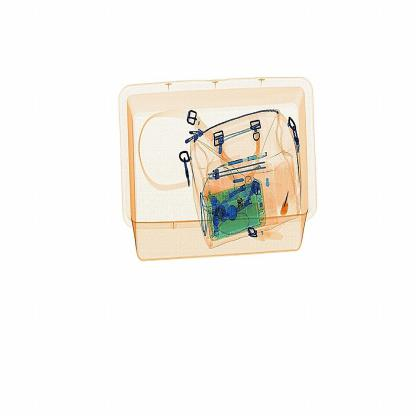wrench: (279, 188, 294, 218)
